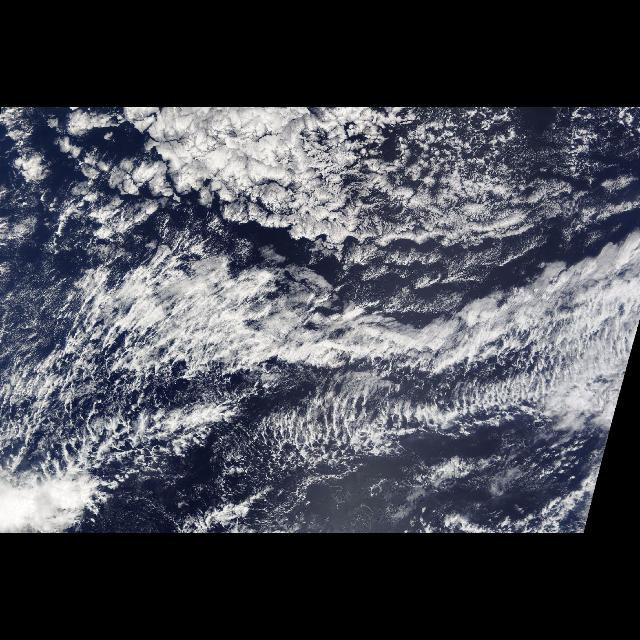Flower: (130, 122, 618, 248)
Gravel: (1, 224, 131, 454)
